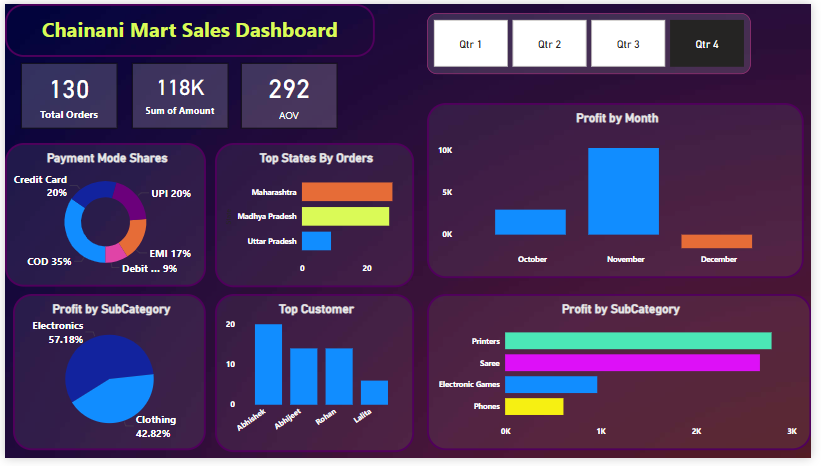

The page's visual inventory and layout, read from the dashboard file:
{"tool":"powerbi","page":{"name":"Page 1","canvas":[1280,720],"ordinal":0},"visuals":[{"type":"textbox","box":[0,0,586.6,83.8],"z":0},{"type":"columnChart","title":"Profit by Month","fields":{"Category":["Orders.Order Date.Variation.Date Hierarchy.Month"],"Y":["Details.Profit"]},"box":[669.8,157.1,598.4,277.8],"z":1000},{"type":"barChart","title":"Profit by SubCategory","fields":{"Category":["Details.Sub-Category"],"Y":["Details.Profit"]},"box":[670.4,460.1,609.6,248.1],"z":2000},{"type":"donutChart","title":"Payment Mode Shares","fields":{"Category":["Details.PaymentMode"],"Y":["Details.Amount"]},"box":[12.7,220.6,306.3,228.6],"z":3000},{"type":"pieChart","title":"Profit by SubCategory","fields":{"Category":["Details.Category"],"Y":["Details.Quantity"]},"box":[12.7,460.3,306.3,247.6],"z":4000},{"type":"columnChart","title":"Top Customer","fields":{"Category":["Orders.CustomerName"],"Y":["Details.Order ID"]},"box":[333.3,460.3,315.9,250.8],"z":5000},{"type":"cardVisual","fields":{"Data":["Details.AOV"]},"box":[374.6,93.7,152.8,103.5],"z":6000},{"type":"cardVisual","fields":{"Data":["Details.Amount"]},"box":[202.1,93.7,152.8,103.5],"z":6001},{"type":"cardVisual","fields":{"Data":["Details.Order ID"]},"box":[24.6,93.7,152.8,103.5],"z":6002},{"type":"barChart","title":"Top States By Orders","fields":{"Category":["Orders.State"],"Y":["Details.Order ID"]},"box":[333.3,220.6,315.9,228.6],"z":6003},{"type":"advancedSlicerVisual","fields":{"Values":["Orders.Order Date.Variation.Date Hierarchy.Quarter"]},"box":[670.4,14.8,514.3,96.9],"z":6004}]}

Visuals, with their boxes in screenshot pixels (x1, y1, x2, y2), scaled from the page's 1280x720 canvas onto the 821x466 screenshot:
textbox: 0:0:376:54
"Profit by Month" columnChart: 430:102:813:281
"Profit by SubCategory" barChart: 430:298:820:458
"Payment Mode Shares" donutChart: 8:143:205:291
"Profit by SubCategory" pieChart: 8:298:205:458
"Top Customer" columnChart: 214:298:416:460
cardVisual - Details.AOV: 240:61:338:128
cardVisual - Details.Amount: 130:61:228:128
cardVisual - Details.Order ID: 16:61:114:128
"Top States By Orders" barChart: 214:143:416:291
advancedSlicerVisual - Orders.Order Date.Variation.Date Hierarchy.Quarter: 430:10:760:72
